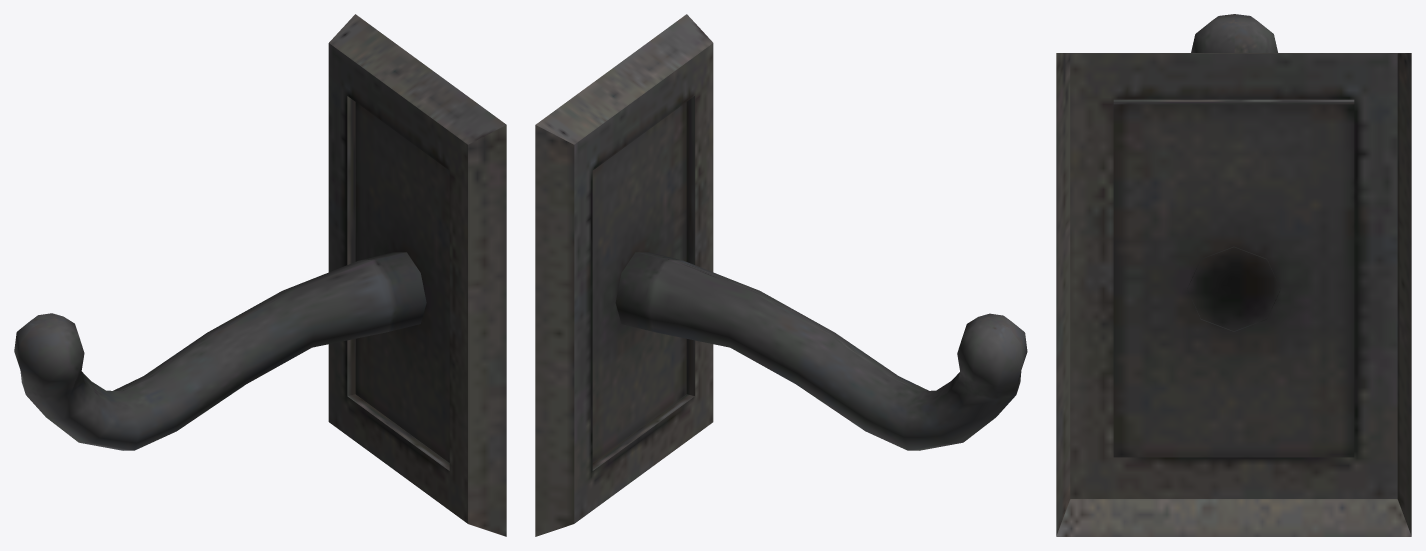
The model's file is hanger_small.DAE.
The picture shows the model from 3 angles, left to right: view 1: azimuth 30°, elevation 25°; view 2: azimuth 150°, elevation 25°; view 3: azimuth 270°, elevation 25°; orthographic projection. The views are drawn at different scales.
Visible parts, largest first — view 1: mesh_hanger; view 2: mesh_hanger; view 3: mesh_hanger.
Boxes of the visible parts, box(x1,y1,x2,y2) form: mesh_hanger: box(14, 14, 506, 536); mesh_hanger: box(535, 14, 1027, 536); mesh_hanger: box(1056, 14, 1411, 536).
Size of the model in its own units: 0.0943 by 0.0901 by 0.06.
